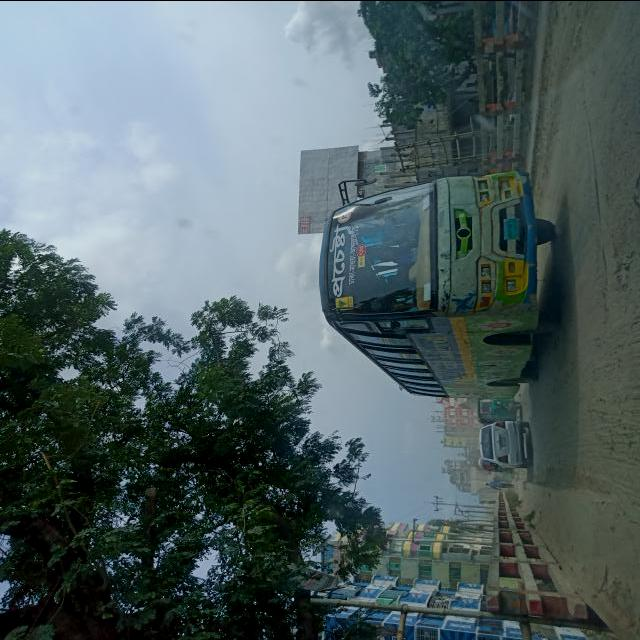bus: (320, 171, 562, 400)
